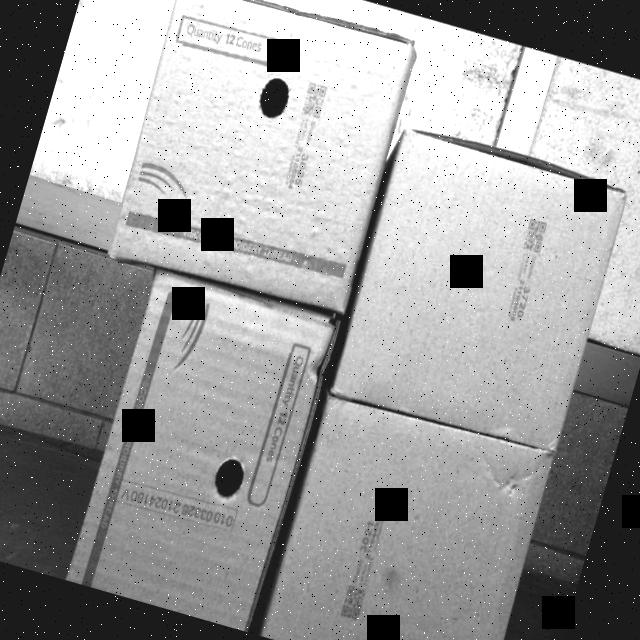box: (68, 263, 340, 632), (103, 0, 420, 315), (334, 120, 627, 451), (257, 387, 559, 640)
